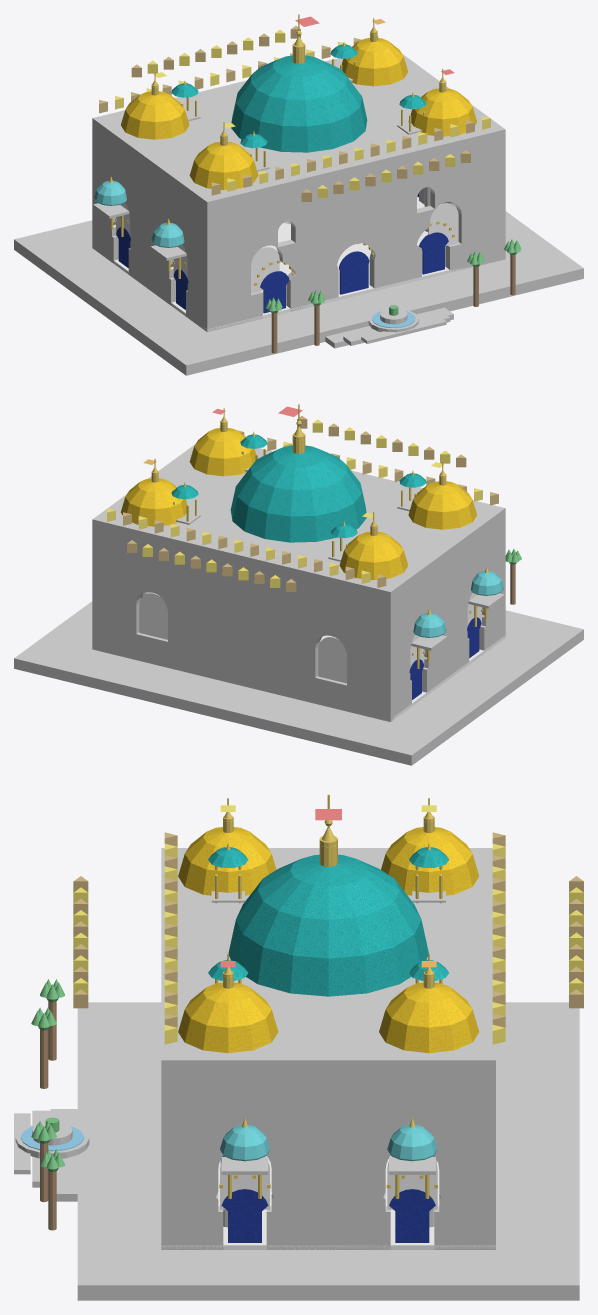
Rendered from mahal_palace_master.glb.
3 renders of one model, top to bottom at view 1: azimuth 30°, elevation 25°; view 2: azimuth 150°, elevation 25°; view 3: azimuth 270°, elevation 25°, orthographic. The views are drawn at different scales.
Parts seen in each view (by area): view 1: MahalPalaceMaster; view 2: MahalPalaceMaster; view 3: MahalPalaceMaster.
Part boxes in pixels (bbox=[...]): MahalPalaceMaster: bbox=[14, 14, 583, 375]; MahalPalaceMaster: bbox=[14, 404, 583, 765]; MahalPalaceMaster: bbox=[14, 794, 583, 1300].
Bounding box in the file's own units: 40 × 26.62 × 34.05.
Materials: 24 (3 with a texture image).
